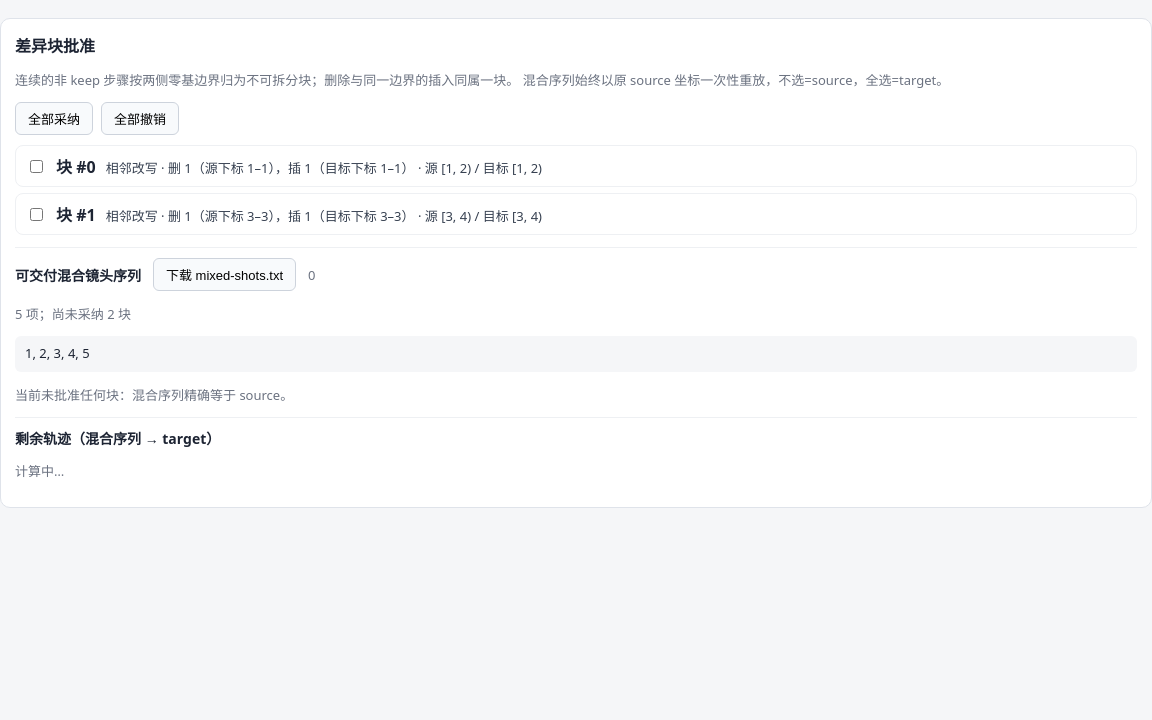
Test case: BlockMixer 逐块批准 › 全部采纳/全部撤销按钮
This screenshot has width=1152, height=720.
Click the button with test id "accept-all". click: (54, 118)
box: [15, 102, 93, 135]
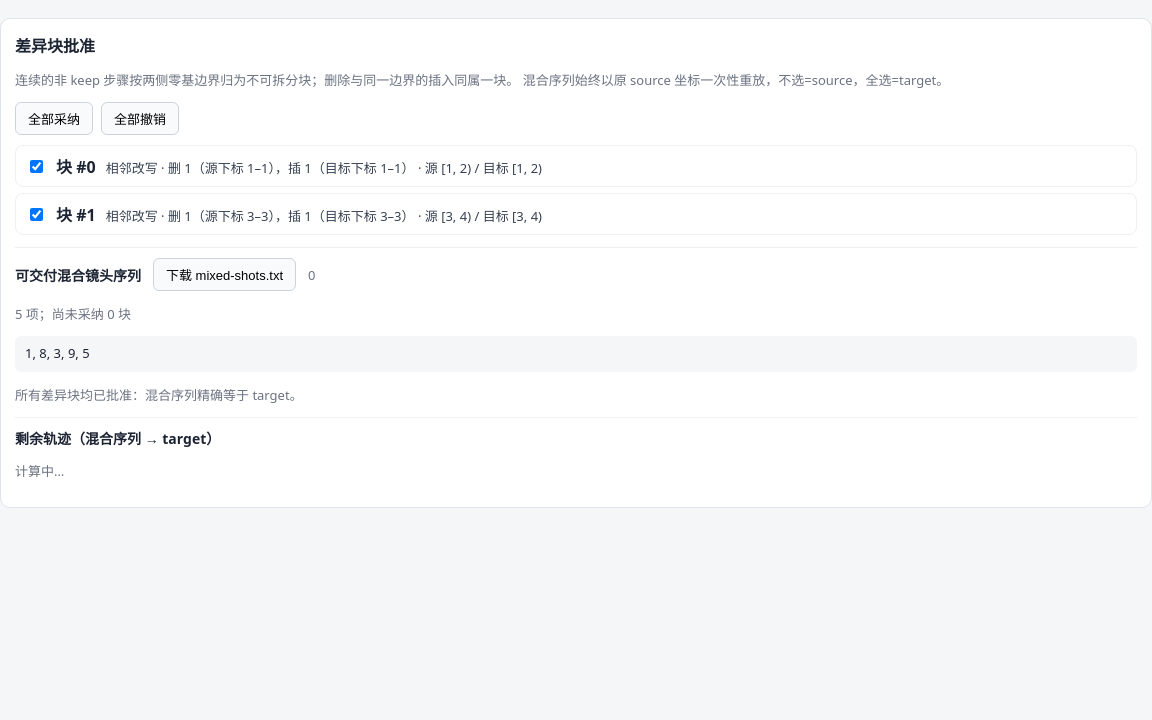
Result: the text with test id "mixed-sequence" reads "1, 8, 3, 9, 5" at [25, 344, 90, 362]
Click the button with test id "accept-none". click: (140, 118)
box: [101, 102, 179, 135]
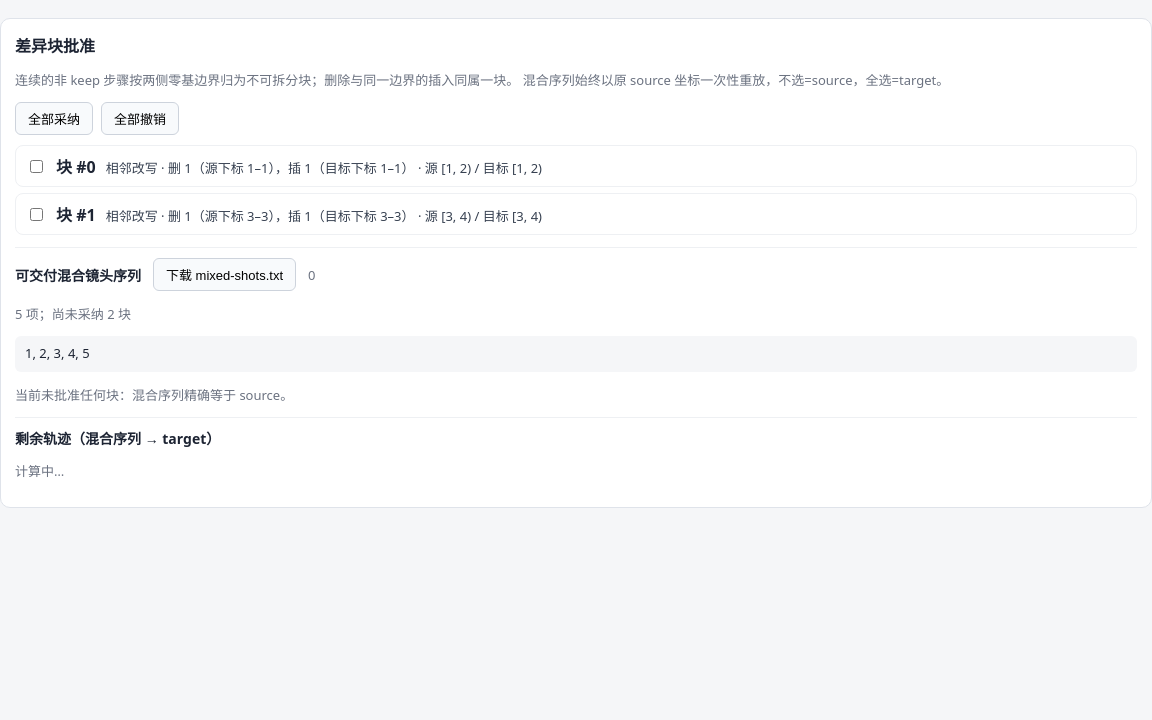
Result: the text with test id "mixed-sequence" reads "1, 2, 3, 4, 5" at [25, 344, 90, 362]
